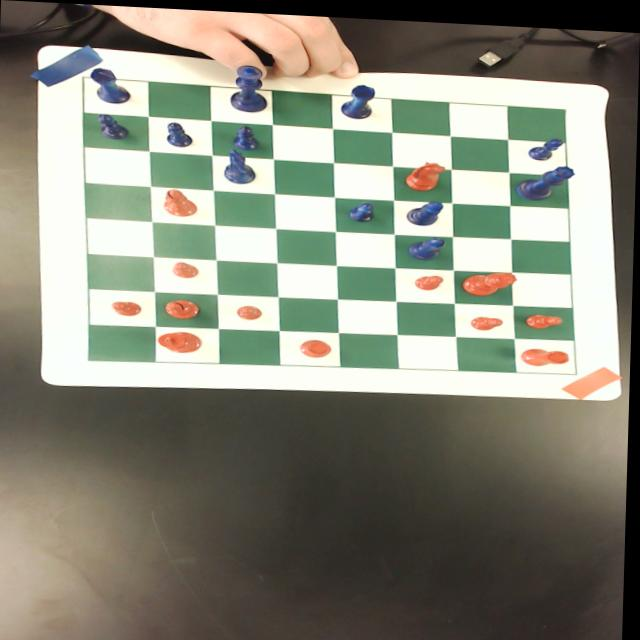B: (406, 194, 445, 222), (406, 232, 446, 257)
K: (228, 62, 269, 111)
N: (223, 146, 257, 183)
P: (95, 112, 131, 139), (527, 130, 564, 156), (235, 121, 260, 148), (166, 120, 193, 145), (348, 197, 376, 218)
Q: (515, 158, 576, 196)
R: (89, 67, 132, 103), (340, 79, 377, 116)
b: (164, 186, 199, 215), (166, 298, 200, 318)
k: (160, 328, 204, 352)
n: (405, 156, 447, 188)
p: (526, 308, 564, 324), (111, 299, 144, 316), (471, 310, 505, 326), (236, 301, 266, 319), (414, 270, 445, 287), (172, 259, 200, 277)
q: (462, 265, 518, 293)
r: (523, 342, 572, 362), (301, 336, 333, 355)
